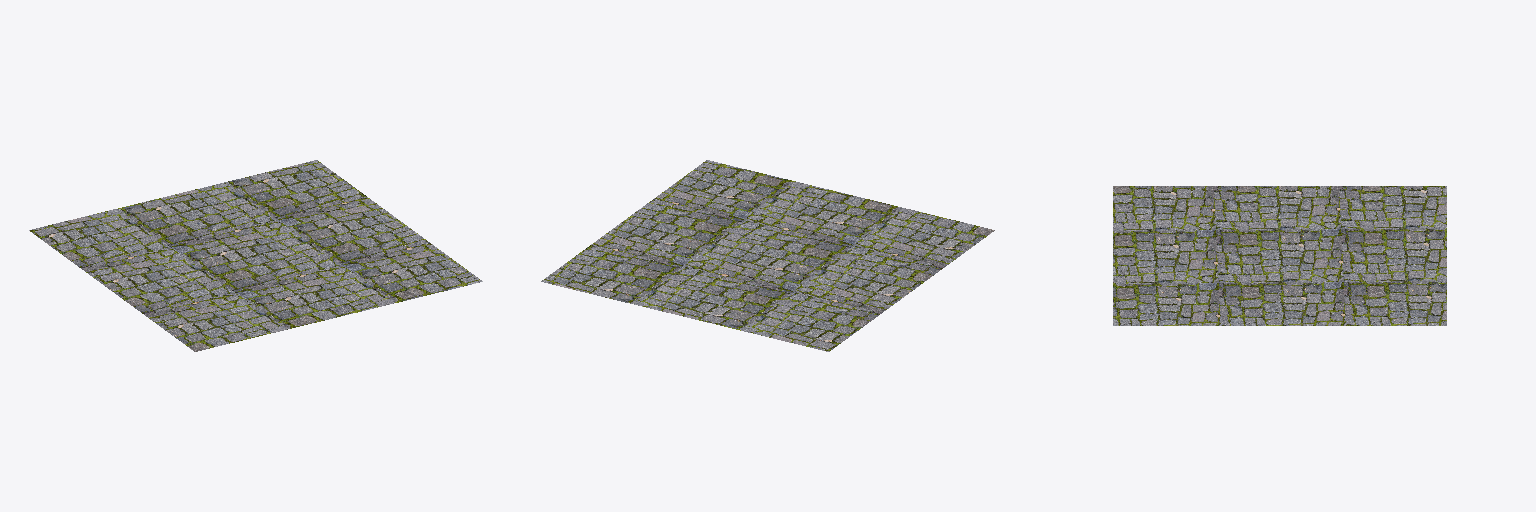
3 renders of one model, left to right at view 1: azimuth 30°, elevation 25°; view 2: azimuth 150°, elevation 25°; view 3: azimuth 270°, elevation 25°, orthographic.
Visible parts, largest first — view 1: Piso:pPlane1; view 2: Piso:pPlane1; view 3: Piso:pPlane1.
Boxes of the visible parts, x1,y1,x2,y2 form: Piso:pPlane1: [29, 160, 482, 351]; Piso:pPlane1: [541, 160, 994, 351]; Piso:pPlane1: [1113, 186, 1446, 325].
Size of the model in its own units: 100 by 0 by 100.
Materials: 1 (1 with a texture image).